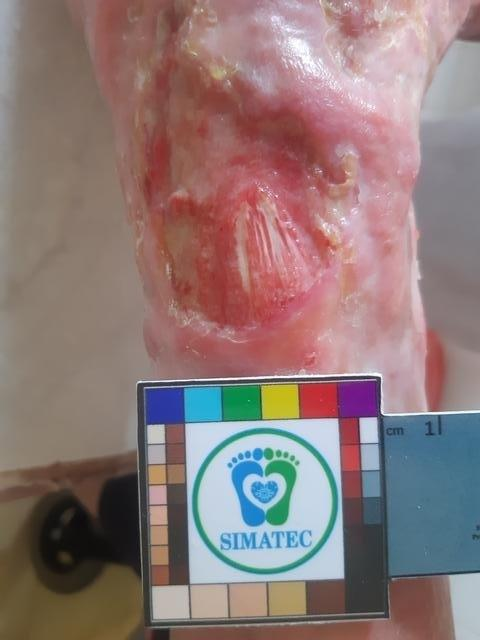wound: (138, 0, 362, 332)
